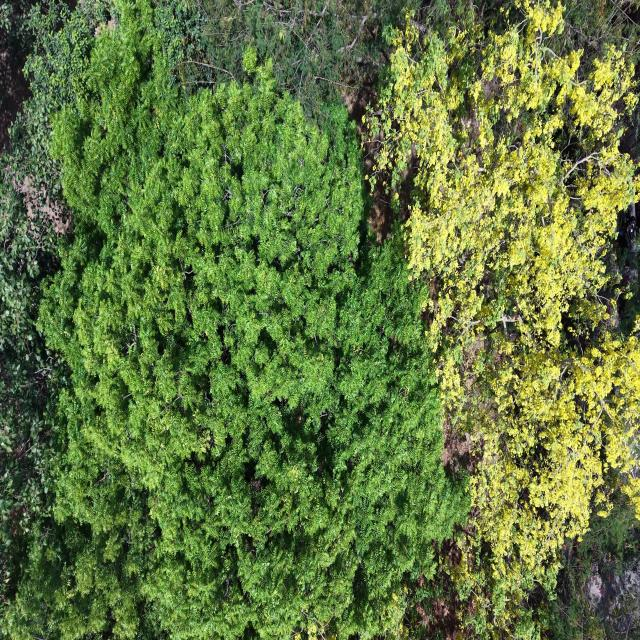DRY_AREA: (0, 27, 29, 152)
VEGETATION_TREE: (0, 0, 639, 639), (5, 3, 467, 638), (368, 0, 639, 635), (0, 0, 115, 604), (0, 2, 94, 601), (177, 0, 405, 122), (0, 176, 55, 597), (545, 492, 639, 639), (0, 0, 31, 152)
